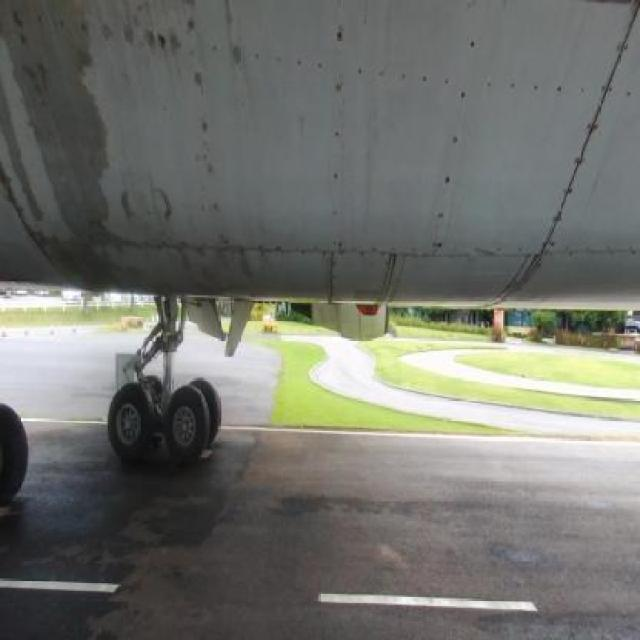Missing-Rivet: (103, 230, 385, 264), (433, 36, 478, 245), (186, 11, 226, 234), (538, 118, 600, 245), (198, 38, 327, 78), (597, 37, 637, 155), (44, 18, 179, 52), (397, 243, 635, 262), (482, 68, 592, 109), (350, 59, 455, 93), (330, 25, 345, 229)
Scartch: (1, 0, 130, 294), (111, 173, 178, 230), (107, 23, 181, 51), (228, 43, 250, 77)
